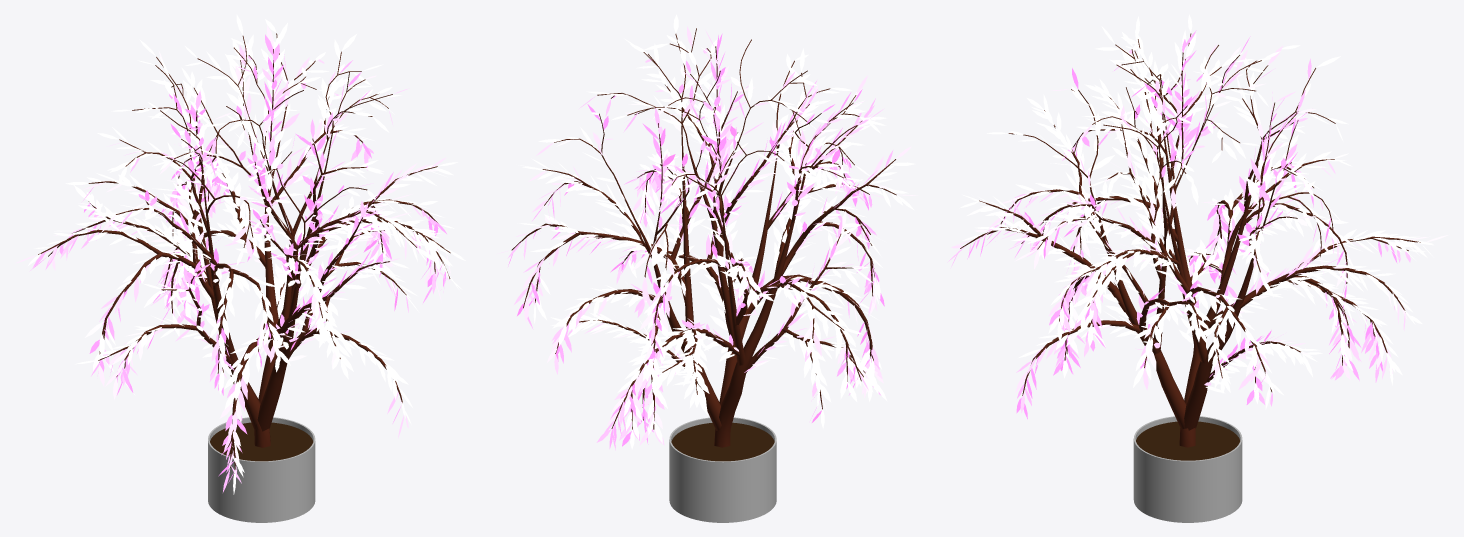
Rendered from topas-plant-1.glb.
3 renders of one model, left to right at view 1: azimuth 30°, elevation 25°; view 2: azimuth 150°, elevation 25°; view 3: azimuth 270°, elevation 25°, orthographic.
Visible parts, largest first — view 1: leaves, plantLarge, pot; view 2: leaves, plantLarge, pot; view 3: leaves, plantLarge, pot.
Part boxes in pixels (x1=…): leaves: x1=15, y1=14, x2=465, y2=494; plantLarge: x1=38, y1=33, x2=450, y2=469; pot: x1=208, y1=417, x2=315, y2=522; leaves: x1=499, y1=14, x2=917, y2=450; plantLarge: x1=511, y1=28, x2=896, y2=447; pot: x1=669, y1=417, x2=776, y2=522; leaves: x1=947, y1=14, x2=1448, y2=419; plantLarge: x1=960, y1=33, x2=1420, y2=447; pot: x1=1133, y1=416, x2=1242, y2=522.
Bounding box in the file's own units: 1.72 × 1.93 × 1.85.
